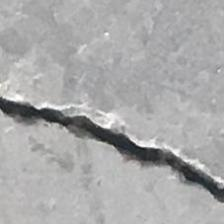Crack: (0, 73, 224, 210)
